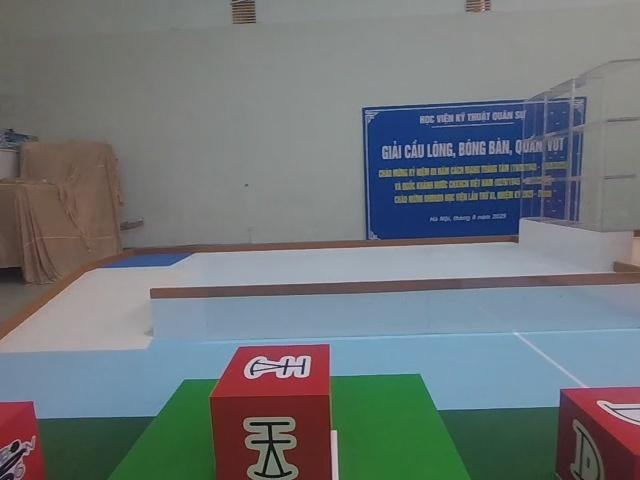R2 Real: (210, 341, 332, 480), (552, 382, 640, 480)
